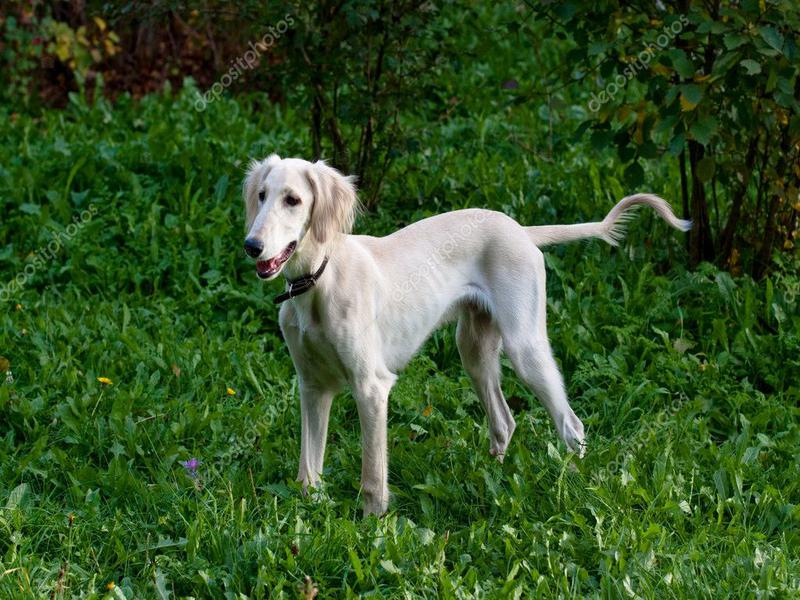dog_stand: (237, 145, 696, 536)
